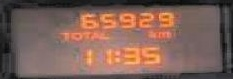1: (78, 45, 93, 65), (97, 45, 111, 65)
2: (135, 10, 153, 27)
3: (120, 45, 140, 65)
5: (140, 45, 160, 64), (96, 11, 116, 29)
6: (73, 10, 95, 29)
9: (115, 10, 133, 29), (153, 10, 173, 26)
X: (153, 29, 171, 38), (69, 30, 80, 40), (96, 30, 107, 39), (58, 30, 69, 39), (80, 29, 89, 39), (144, 29, 153, 38), (111, 49, 117, 61), (89, 30, 95, 39)
